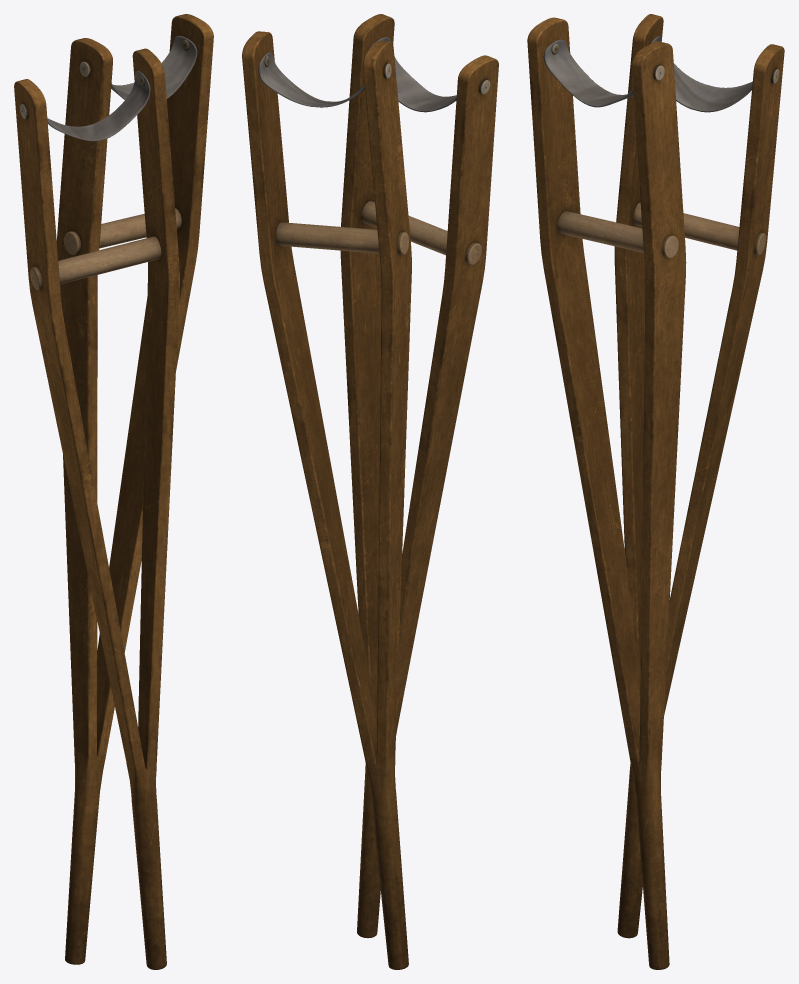
Rendered from vintage_crutches_01_2k.fbx.
3 renders of one model, left to right at view 1: azimuth 30°, elevation 25°; view 2: azimuth 150°, elevation 25°; view 3: azimuth 330°, elevation 25°, orthographic.
Visible parts, largest first — view 1: vintage_crutches_01_crutch01, vintage_crutches_01_crutch02; view 2: vintage_crutches_01_crutch02, vintage_crutches_01_crutch01; view 3: vintage_crutches_01_crutch01, vintage_crutches_01_crutch02.
Part boxes in pixels (x1=…): vintage_crutches_01_crutch01: x1=14, y1=48, x2=179, y2=969; vintage_crutches_01_crutch02: x1=56, y1=14, x2=213, y2=964; vintage_crutches_01_crutch02: x1=242, y1=31, x2=411, y2=969; vintage_crutches_01_crutch01: x1=340, y1=14, x2=498, y2=938; vintage_crutches_01_crutch01: x1=527, y1=17, x2=686, y2=969; vintage_crutches_01_crutch02: x1=614, y1=14, x2=784, y2=938.
Bounding box in the file's own units: 38.38 × 160 × 20.36.
